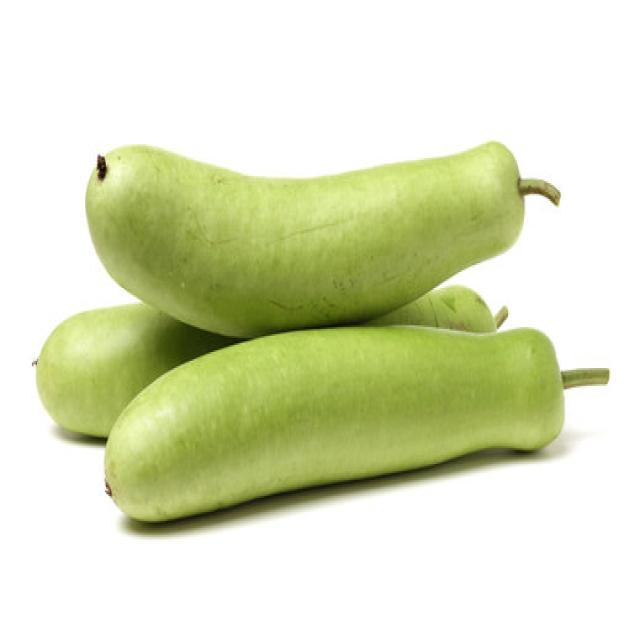Bottle Gourd: (102, 322, 610, 524), (84, 137, 561, 338), (31, 301, 235, 439), (361, 282, 508, 332)
